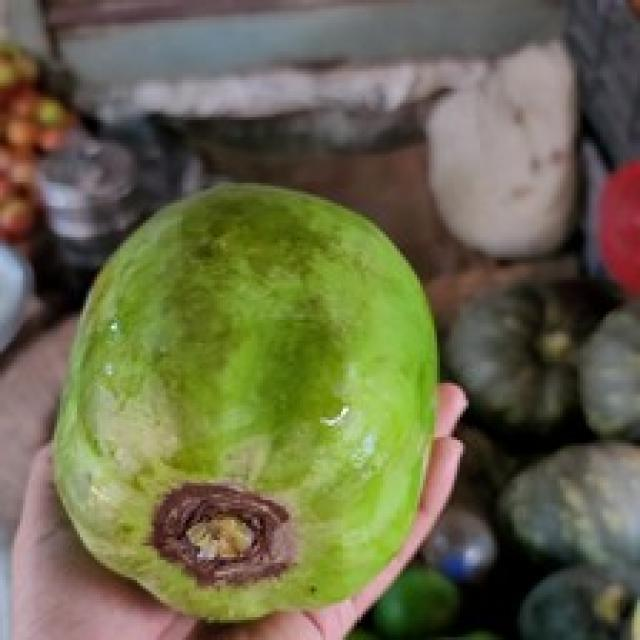Pepaya unrippen: (64, 150, 447, 634)
